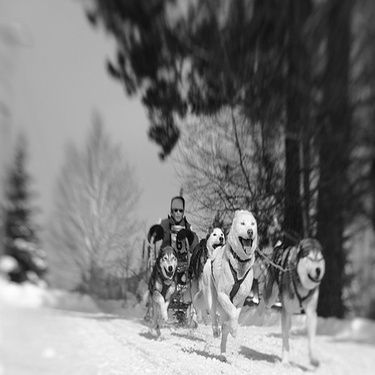dog: (195, 200, 261, 360), (253, 235, 328, 367), (138, 242, 182, 342), (189, 219, 226, 283)
